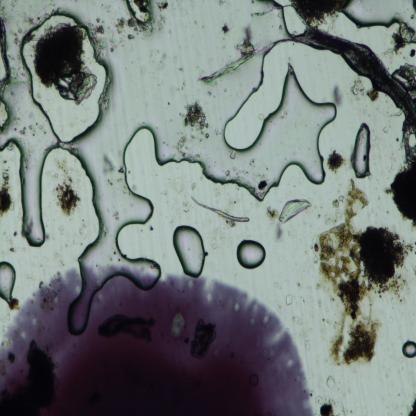Air bubble: (58, 0, 338, 338), (0, 1, 59, 246), (16, 4, 114, 148), (343, 0, 416, 45), (172, 224, 207, 276), (124, 1, 166, 36), (352, 122, 372, 178), (238, 239, 266, 270), (0, 260, 17, 310), (401, 340, 416, 358)
Background material: (311, 182, 408, 371), (32, 22, 95, 104), (385, 130, 416, 231), (290, 2, 353, 30), (51, 163, 81, 217), (384, 20, 416, 57), (181, 99, 209, 139), (93, 20, 132, 48), (278, 196, 314, 224), (395, 64, 416, 102), (0, 170, 14, 221), (352, 77, 379, 102), (316, 395, 347, 414), (13, 118, 39, 139), (251, 164, 268, 194), (328, 148, 346, 174), (330, 82, 344, 106), (266, 204, 279, 226), (323, 374, 337, 390), (284, 291, 294, 307), (407, 399, 416, 414), (227, 151, 238, 163), (221, 22, 230, 34), (408, 47, 416, 59), (411, 0, 416, 11)
Cellulose filter fibre: (300, 22, 416, 130), (199, 42, 255, 84)
Microfibre: (189, 197, 250, 223)
Pen: (0, 265, 314, 415)
